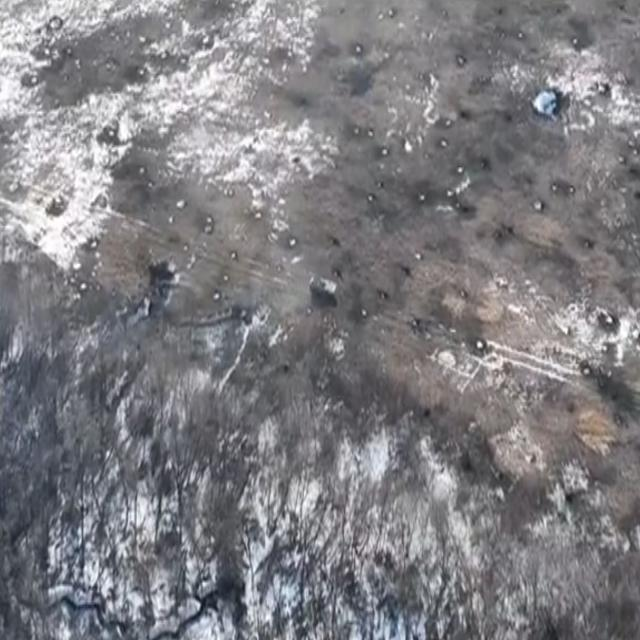apc: (309, 276, 337, 301)
